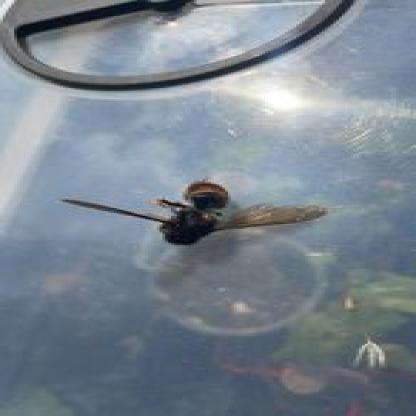Asian Hornet: (58, 172, 333, 250)
